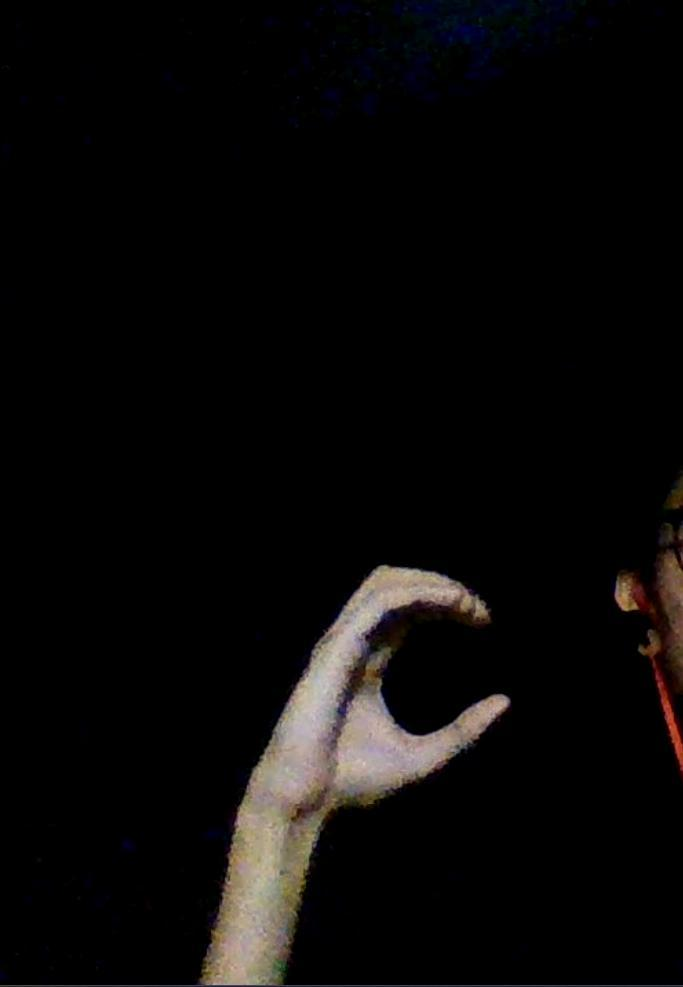c: (300, 566, 513, 805)
